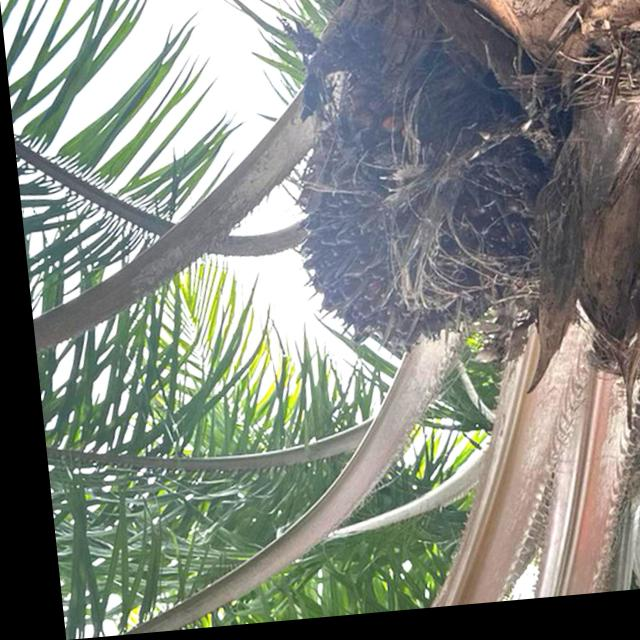ripe: (259, 42, 556, 387)
